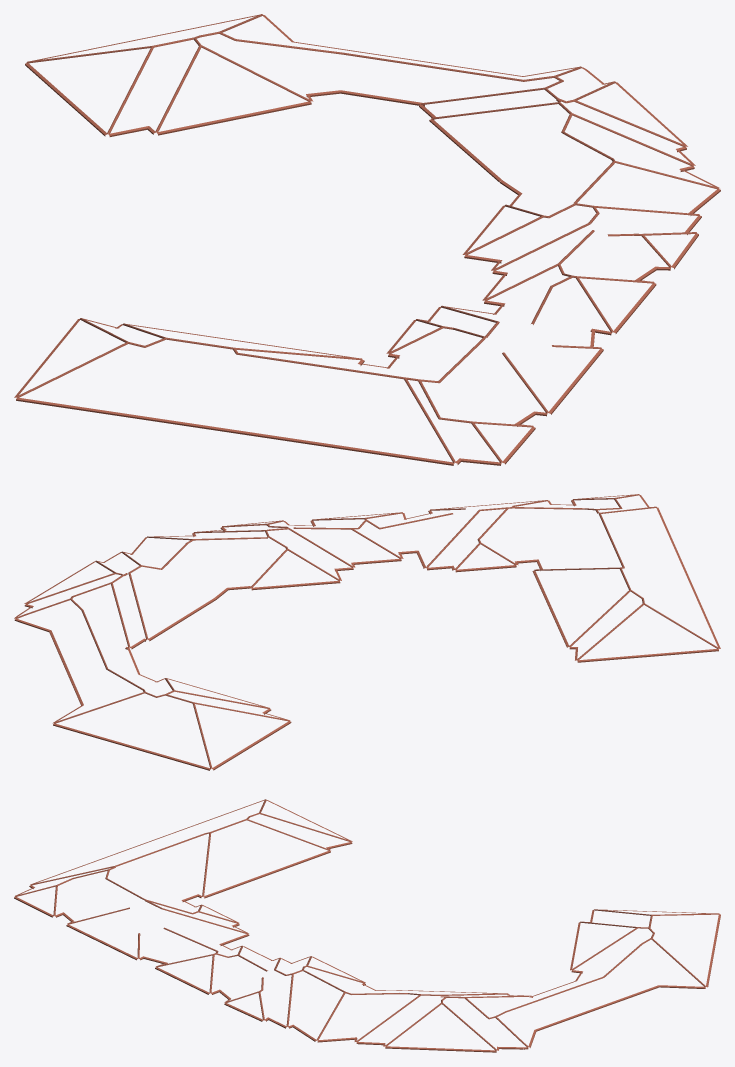
3 renders of one model, top to bottom at view 1: azimuth 30°, elevation 25°; view 2: azimuth 150°, elevation 25°; view 3: azimuth 270°, elevation 25°, orthographic. The views are drawn at different scales.
Visible parts, largest first — view 1: detail; view 2: detail; view 3: detail.
Boxes of the visible parts, x1,y1,x2,y2 form: detail: (14,14,720,465); detail: (14,494,720,770); detail: (14,799,720,1052).
Size of the model in its own units: 87.89 by 4.39 by 104.
